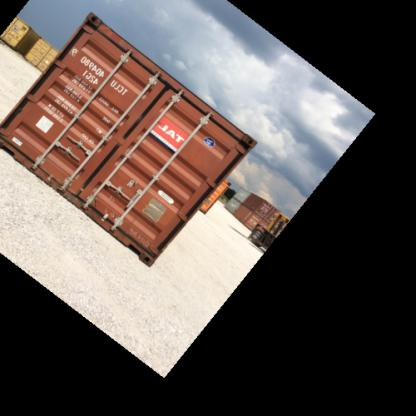Damage: (74, 174, 96, 206)
